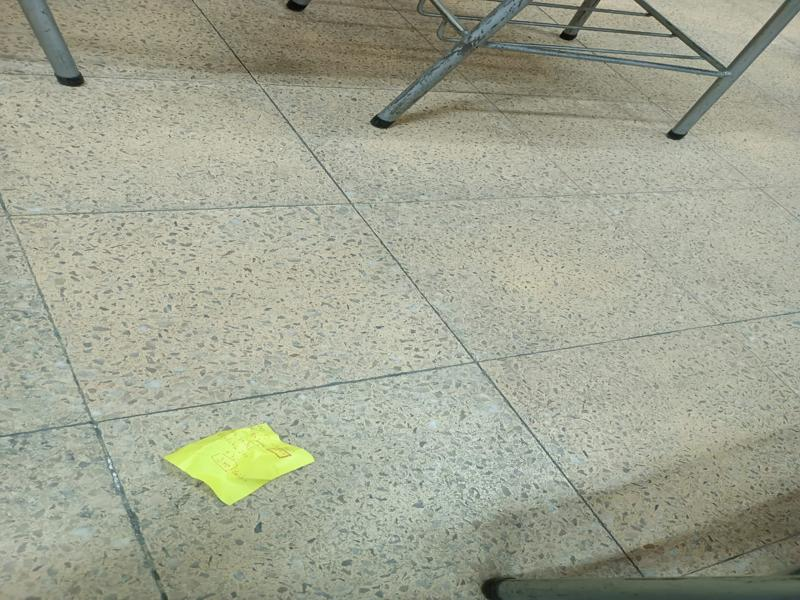papel: (162, 424, 314, 506)
